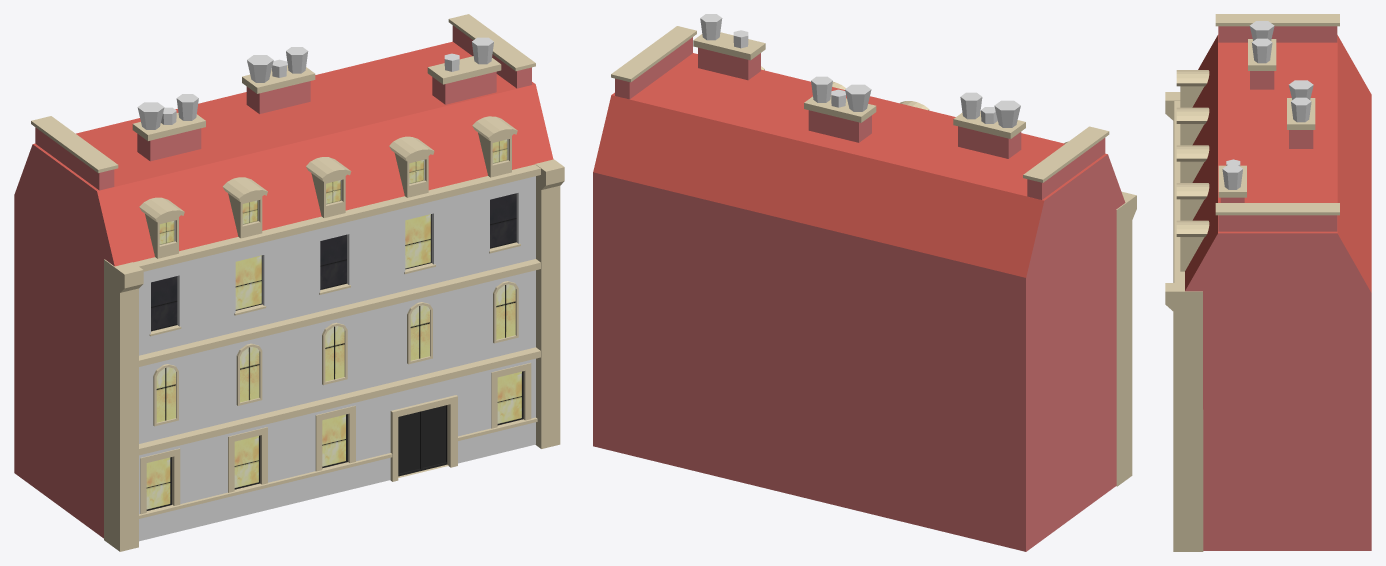
The model's file is Bloc_Place_06.fbx.
The picture shows the model from 3 angles, left to right: view 1: azimuth 30°, elevation 25°; view 2: azimuth 150°, elevation 25°; view 3: azimuth 270°, elevation 25°; orthographic projection. The views are drawn at different scales.
Parts seen in each view (by area): view 1: Bloc_Place_06; view 2: Bloc_Place_06; view 3: Bloc_Place_06.
Boxes of the visible parts, left/top/right/bottom form: Bloc_Place_06: left=14, top=14, right=564, bottom=551; Bloc_Place_06: left=593, top=14, right=1136, bottom=551; Bloc_Place_06: left=1165, top=14, right=1371, bottom=551.
Bounding box in the file's own units: 659 × 1277 × 1505.
